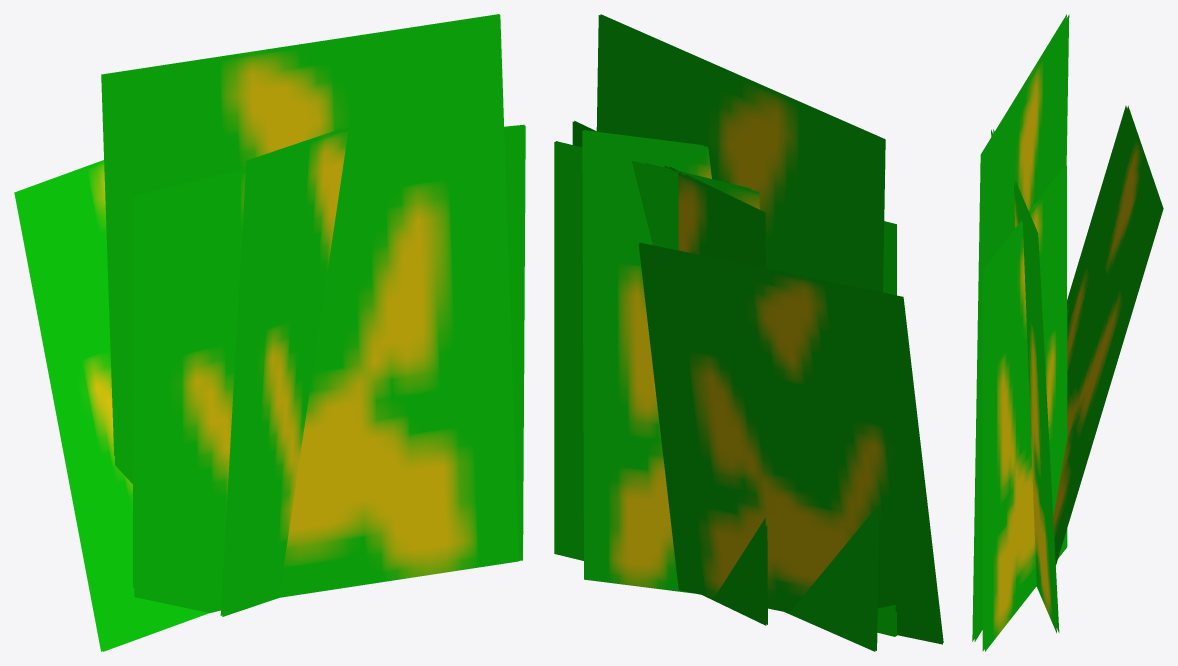
File: p_mesh_oreprospector_watersplash01.fbx
3 views of the same model, side by side, from view 1: azimuth 30°, elevation 25°; view 2: azimuth 150°, elevation 25°; view 3: azimuth 270°, elevation 25° (orthographic). The views are drawn at different scales.
Visible parts, largest first — view 1: pPlane4.004; view 2: pPlane4.004; view 3: pPlane4.004.
Boxes of the visible parts, left/top/right/bottom form: pPlane4.004: left=14, top=14, right=525, bottom=651; pPlane4.004: left=554, top=14, right=943, bottom=651; pPlane4.004: left=972, top=14, right=1163, bottom=651.
Bounding box in the file's own units: 0.9253 × 1.15 × 0.4048.
